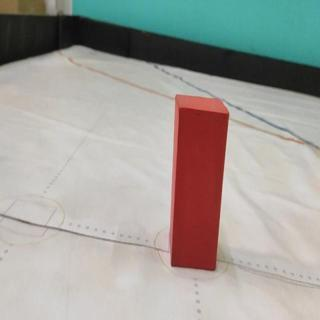redbox: (171, 95, 230, 272)
